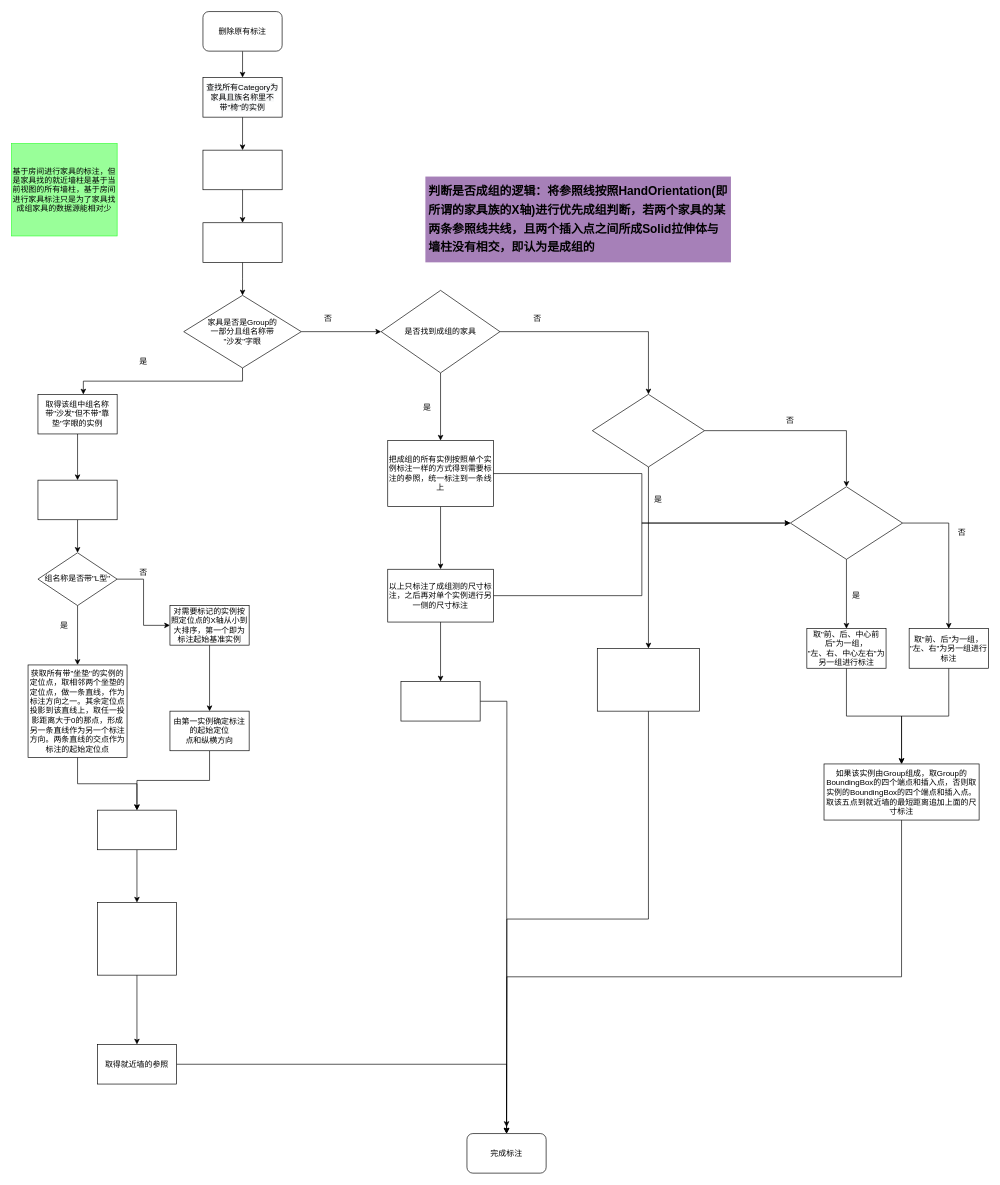
Some shapes in this 1000 by 1185 pixel diagram are drawn without their labels. Each missing label, with the centre of its shape:
删除标记内容一样的尺寸标注: point 440,701
取得组中所有与尺寸标注线方向平行的面参照，夹在中间的靠背不作为尺寸标注的参照: point 137,938
族名称是否带有"双"字眼: point 846,522
查找当前视图所在标高的房间: point 242,169
根据名称中是否带'Φ'符 号，判断实例是否是 圆形实例: point 648,430
根据组的BoundingBox将标注的纵横方向延伸出去0.8英尺: point 137,829
由于API暂不支持半径标注， 取左参照到强参照作为半径标注，并在标注加'R'前缀；取前两个就近墙到强参照作为圆形实例两侧的尺寸标注: point 648,679
确定标注的起始基准实例: point 77,499
获取房间里的家具，并进族文档去到前后左右四个参照转化到项目中后参照的直线: point 242,242
